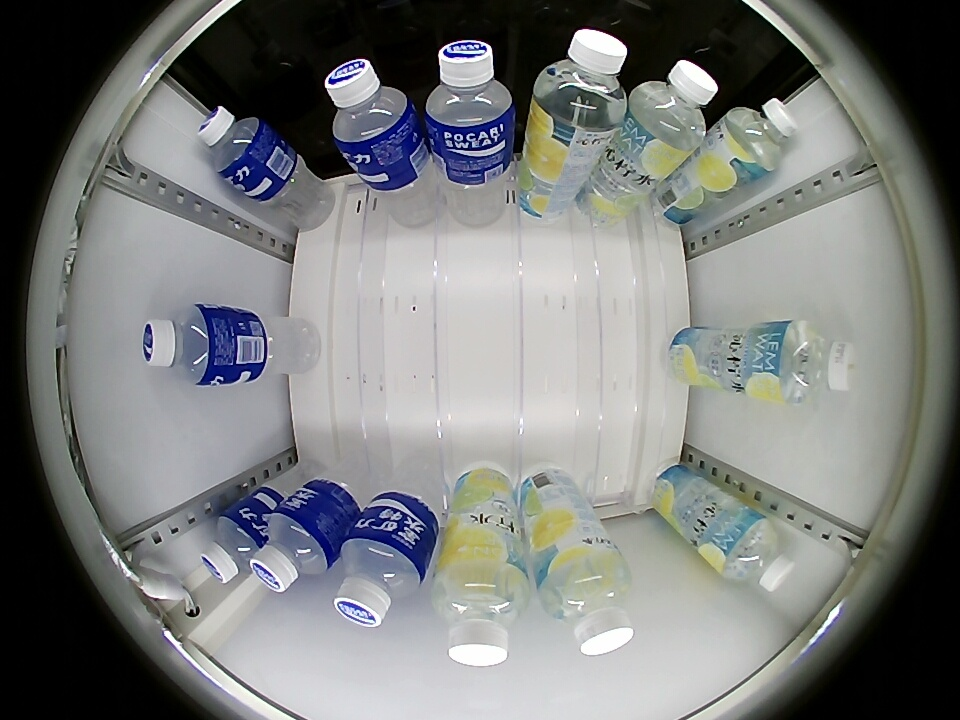baokuangli: (334, 524, 430, 629), (424, 39, 515, 147), (325, 58, 419, 158), (251, 504, 338, 593), (142, 304, 226, 387), (197, 105, 273, 183), (200, 506, 268, 583)
qinningshui: (432, 559, 532, 668), (531, 28, 631, 134), (538, 548, 634, 657), (628, 59, 718, 153), (772, 321, 856, 405), (716, 512, 795, 593), (723, 97, 799, 174)
